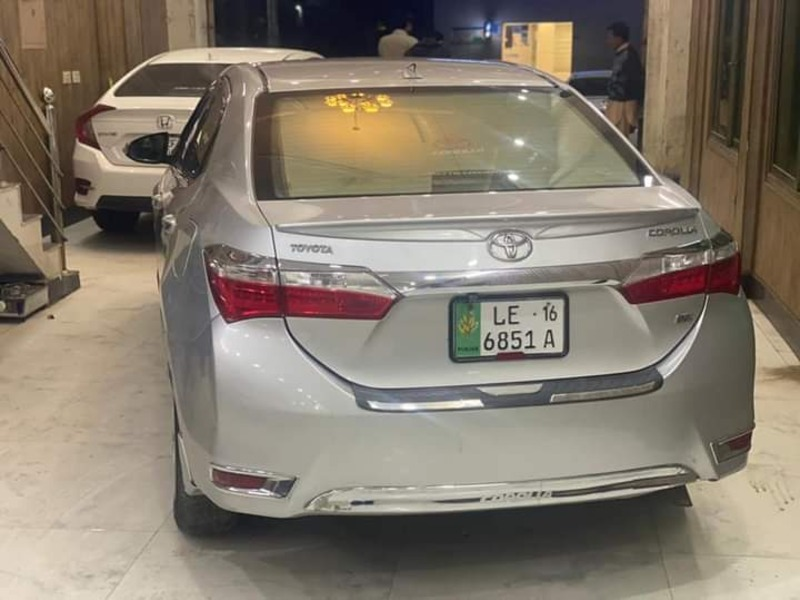License Plate: (444, 289, 573, 367)
